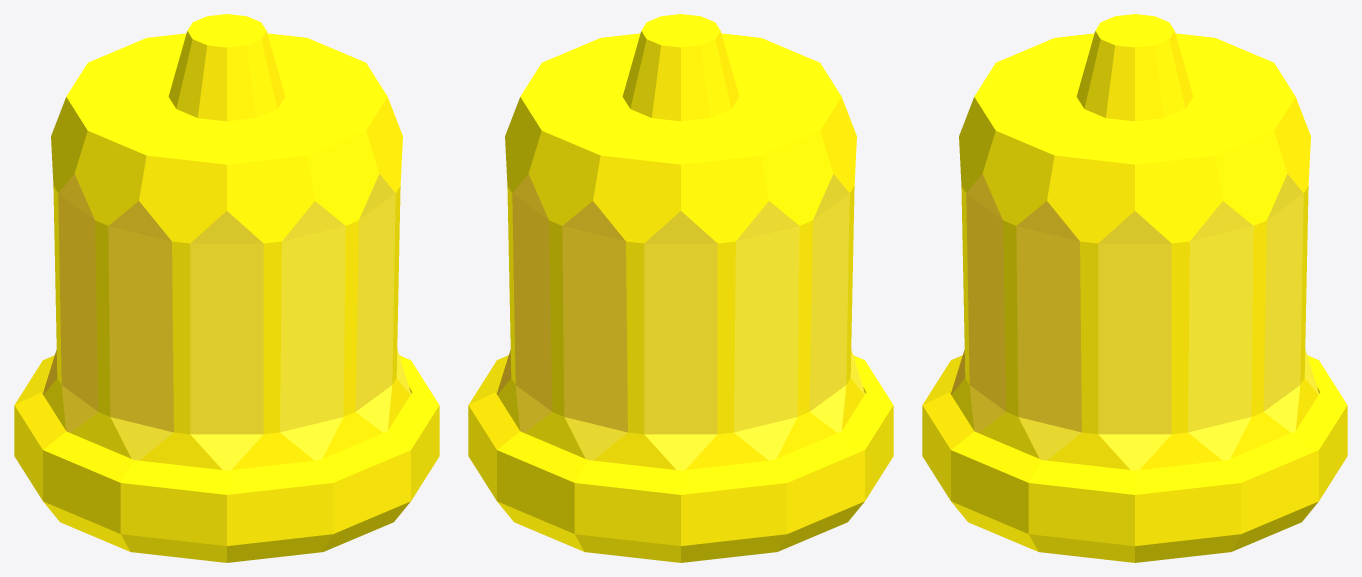
File: BellModel.fbx
The picture shows the model from 3 angles, left to right: view 1: azimuth 30°, elevation 25°; view 2: azimuth 150°, elevation 25°; view 3: azimuth 270°, elevation 25°; orthographic projection.
Visible parts, largest first — view 1: Bell; view 2: Bell; view 3: Bell.
Boxes of the visible parts, left/top/right/bottom form: Bell: left=14, top=14, right=439, bottom=562; Bell: left=468, top=14, right=893, bottom=562; Bell: left=922, top=14, right=1347, bottom=562.
Bounding box in the file's own units: 94.75 × 94.75 × 111.
